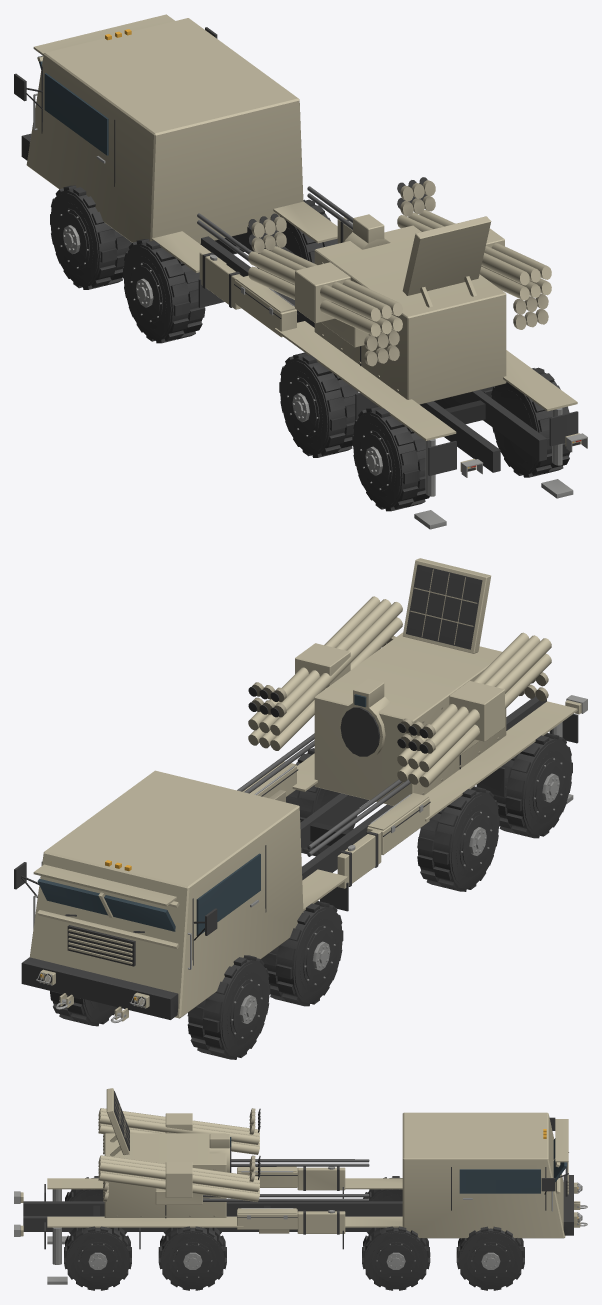
Rendered from rus_aa_pantsir.glb.
The picture shows the model from 3 angles, top to bottom: view 1: azimuth 30°, elevation 25°; view 2: azimuth 150°, elevation 25°; view 3: azimuth 270°, elevation 25°; orthographic projection. The views are drawn at different scales.
Parts seen in each view (by area): view 1: body, turret, barrel, wheel_2, wheel_4, wheel_6, wheel_0, wheel_7, wheel_3; view 2: body, turret, barrel, wheel_4, wheel_6, wheel_0, wheel_2, wheel_5, wheel_1; view 3: body, barrel, turret, wheel_5, wheel_7, wheel_3, wheel_1, wheel_6, wheel_2.
Boxes of the visible parts, x1,y1,x2,y2 form: body: [14, 14, 587, 529]; turret: [314, 214, 506, 404]; barrel: [197, 177, 551, 366]; wheel_2: [123, 239, 205, 343]; wheel_4: [279, 352, 358, 457]; wheel_6: [352, 406, 429, 511]; wheel_0: [50, 185, 131, 289]; wheel_7: [491, 367, 570, 477]; wheel_3: [280, 199, 337, 263]; body: [14, 695, 587, 1022]; turret: [314, 558, 506, 805]; barrel: [237, 596, 551, 856]; wheel_4: [417, 786, 499, 891]; wheel_6: [493, 733, 572, 838]; wheel_0: [187, 955, 270, 1059]; wheel_2: [261, 901, 343, 1006]; wheel_5: [286, 748, 358, 856]; wheel_1: [50, 991, 117, 1026]; body: [14, 1112, 587, 1284]; barrel: [98, 1108, 369, 1204]; turret: [104, 1088, 231, 1218]; wheel_5: [158, 1226, 226, 1290]; wheel_7: [64, 1226, 131, 1290]; wheel_3: [362, 1226, 430, 1290]; wheel_1: [456, 1226, 524, 1290]; wheel_6: [65, 1176, 126, 1234]; wheel_2: [363, 1176, 402, 1234].
Size of the model in its own units: 2.9 by 3.65 by 11.51.
